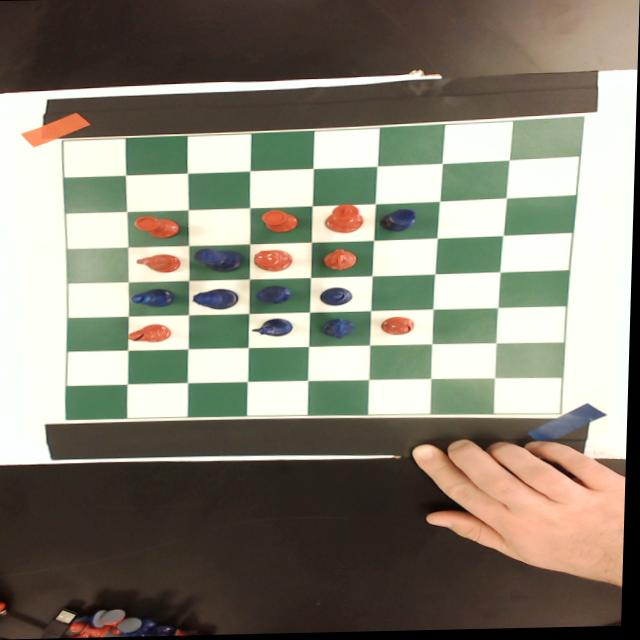B: (132, 287, 180, 309), (320, 287, 357, 308)
K: (193, 247, 251, 274)
N: (319, 317, 359, 342), (253, 318, 297, 338)
Q: (193, 288, 243, 311)
R: (380, 209, 419, 234), (255, 285, 294, 306)
b: (127, 323, 175, 344), (382, 317, 418, 336)
k: (323, 203, 367, 235)
n: (134, 253, 185, 274), (322, 248, 363, 272)
q: (255, 249, 296, 273)
r: (133, 215, 185, 240), (262, 209, 301, 233)
